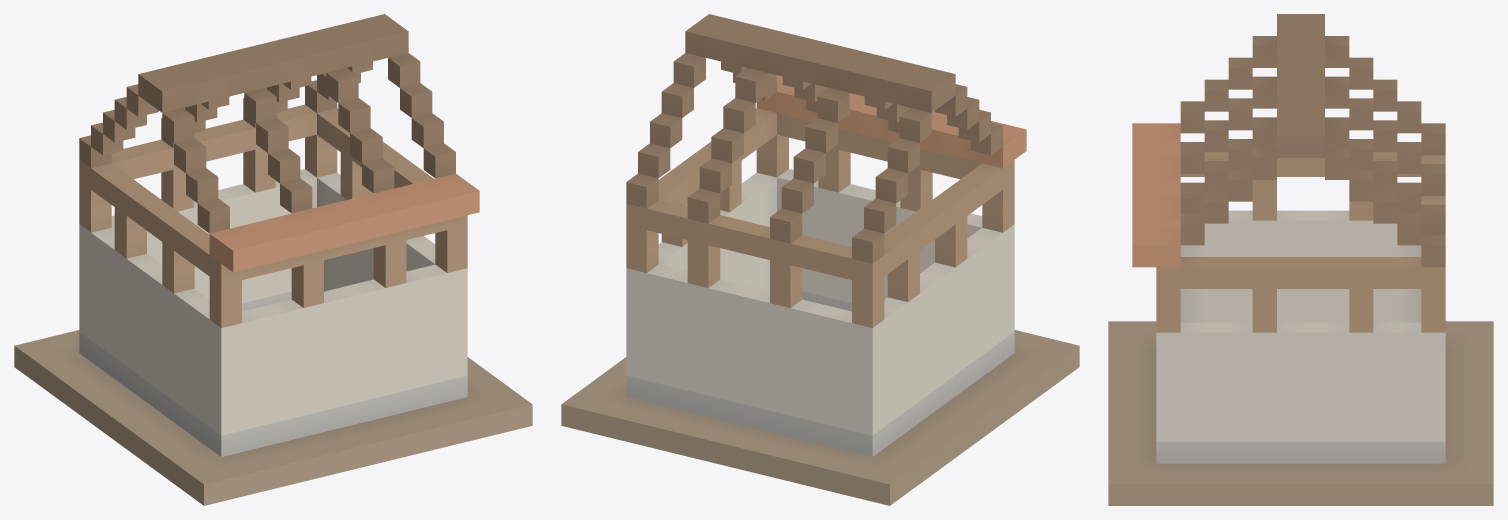
The model's file is life_stage.v2.glb.
The picture shows the model from 3 angles, left to right: view 1: azimuth 30°, elevation 25°; view 2: azimuth 150°, elevation 25°; view 3: azimuth 270°, elevation 25°; orthographic projection.
Visible parts, largest first — view 1: life_stage; view 2: life_stage; view 3: life_stage.
Part boxes in pixels (x1,y1,x2,y2): life_stage: [14, 14, 532, 505]; life_stage: [561, 14, 1079, 505]; life_stage: [1108, 14, 1493, 505].
Bounding box in the file's own units: 2 × 2 × 2.
